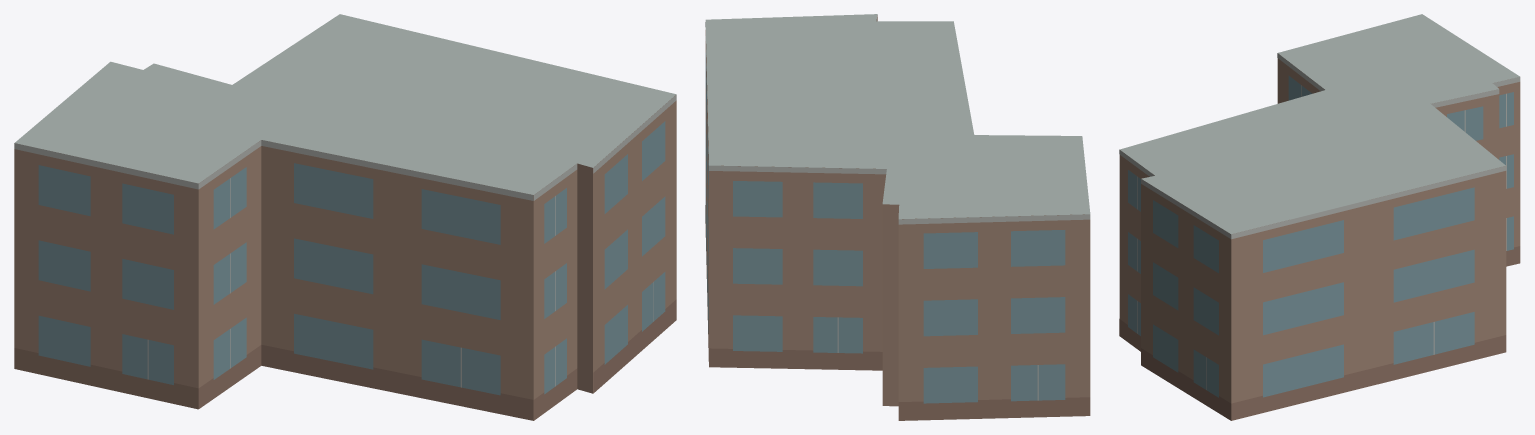
The model's file is survey-upis-32593040.glb.
3 views of the same model, side by side, from view 1: azimuth 30°, elevation 25°; view 2: azimuth 150°, elevation 25°; view 3: azimuth 270°, elevation 25° (orthographic). The views are drawn at different scales.
Parts seen in each view (by area): view 1: survey-upis-32593040.tmp; view 2: survey-upis-32593040.tmp; view 3: survey-upis-32593040.tmp.
Boxes of the visible parts, x1,y1,x2,y2 form: survey-upis-32593040.tmp: (14, 14, 676, 420); survey-upis-32593040.tmp: (705, 14, 1090, 420); survey-upis-32593040.tmp: (1119, 14, 1520, 420).
Bounding box in the file's own units: 23.18 × 9.15 × 17.82.
